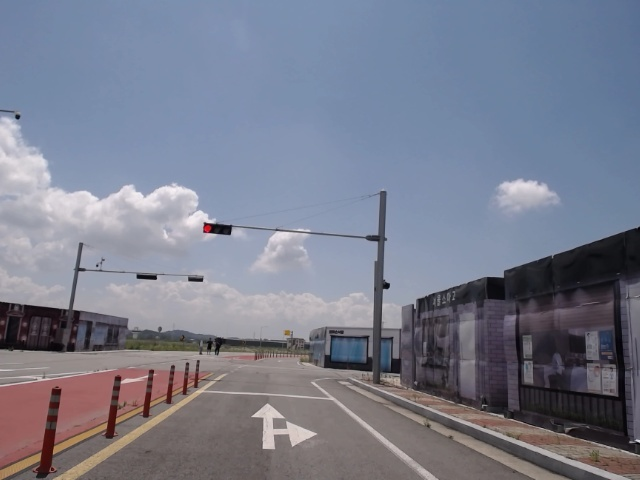red_3: (202, 222, 232, 237)
